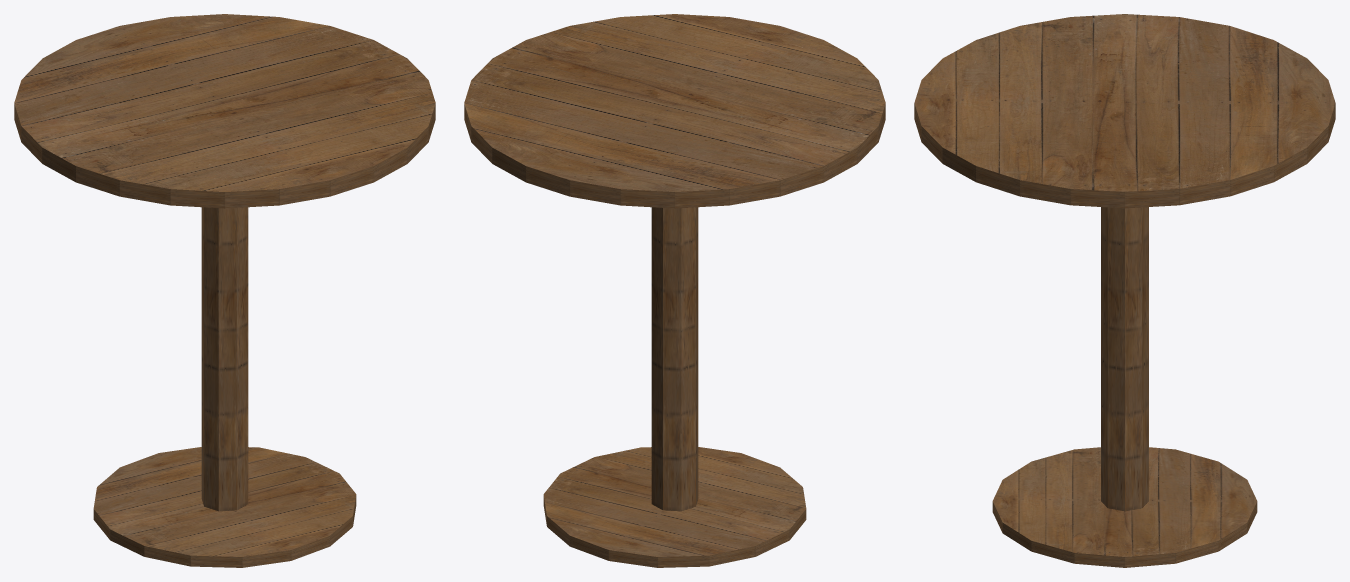
File: mesa_copa_redonda.glb
The picture shows the model from 3 angles, left to right: view 1: azimuth 30°, elevation 25°; view 2: azimuth 150°, elevation 25°; view 3: azimuth 270°, elevation 25°; orthographic projection.
Parts seen in each view (by area): view 1: mesa_copa_redonda; view 2: mesa_copa_redonda; view 3: mesa_copa_redonda.
Part boxes in pixels (<box>): mesa_copa_redonda: <box>14,14,435,567</box>; mesa_copa_redonda: <box>464,14,885,567</box>; mesa_copa_redonda: <box>914,14,1335,567</box>.
Bounding box in the file's own units: 0.7 × 0.75 × 0.7.
Materials: 2 (2 with a texture image).
